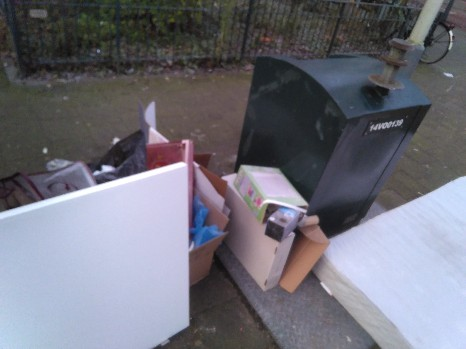Container: (257, 49, 397, 191)
Papier: (228, 172, 318, 283)
Rest: (0, 183, 190, 342), (328, 231, 466, 347), (130, 122, 217, 196), (172, 176, 218, 270), (441, 180, 466, 262)
